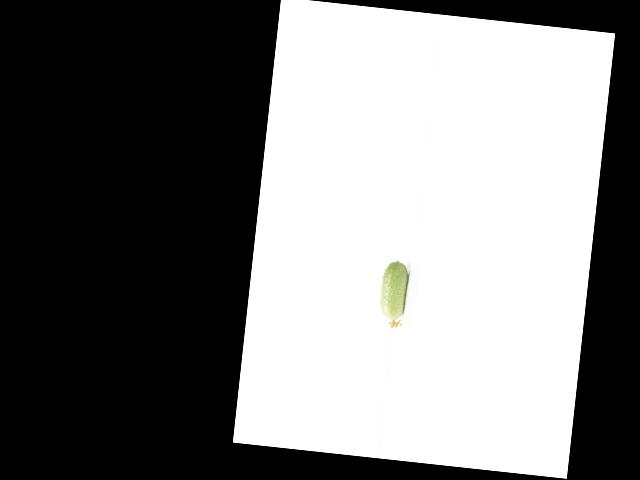cucumber: (377, 258, 410, 328)
